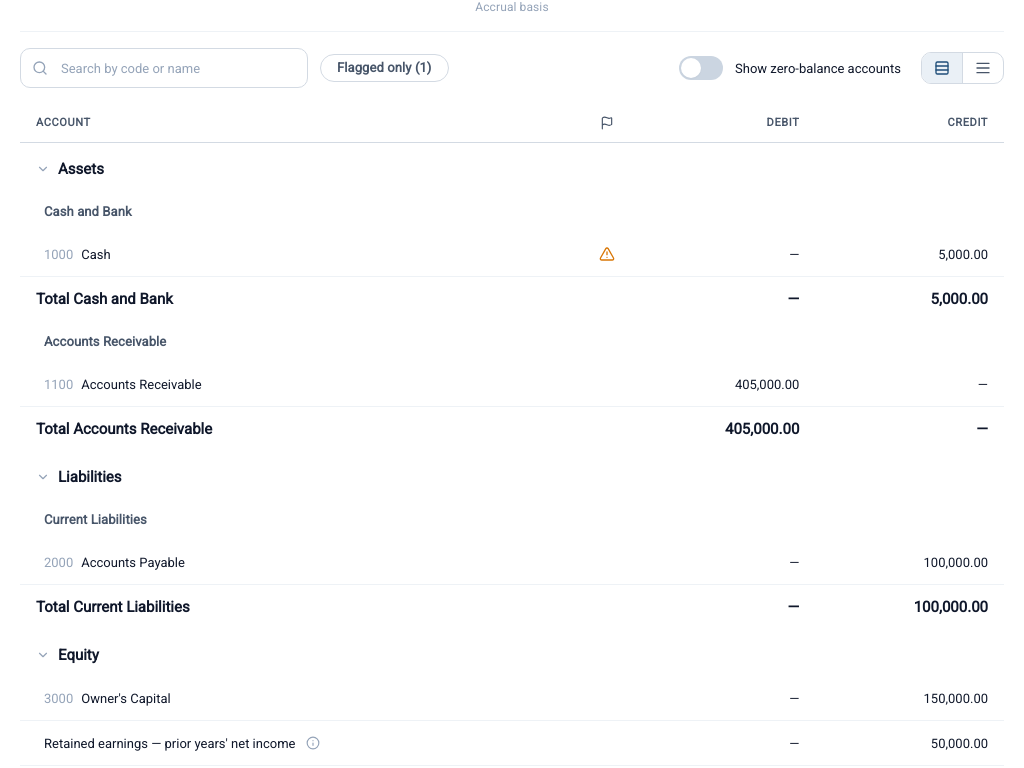
Test: TrialBalancePage (reports v2) › opens an account’s register from a row
(page scrolled)
Click the button "1100 Accounts Receivable": (141, 384) [44, 375, 571, 394]
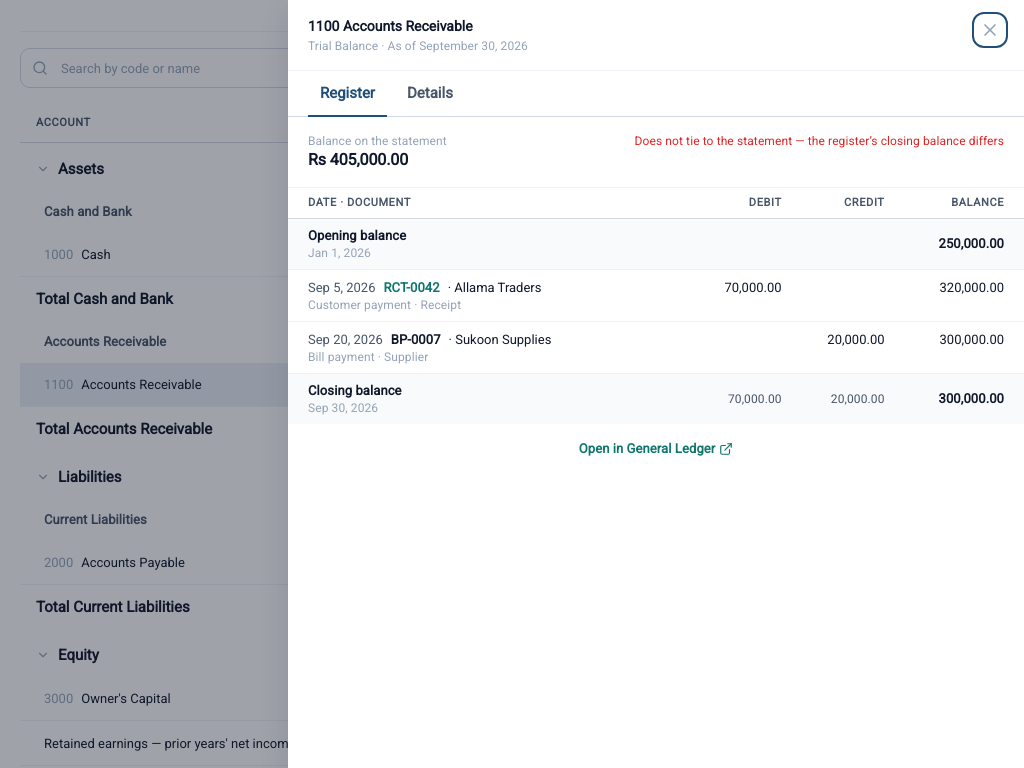
Expected: the heading "1100 Accounts Receivable" is shown, [308, 18, 473, 34]
